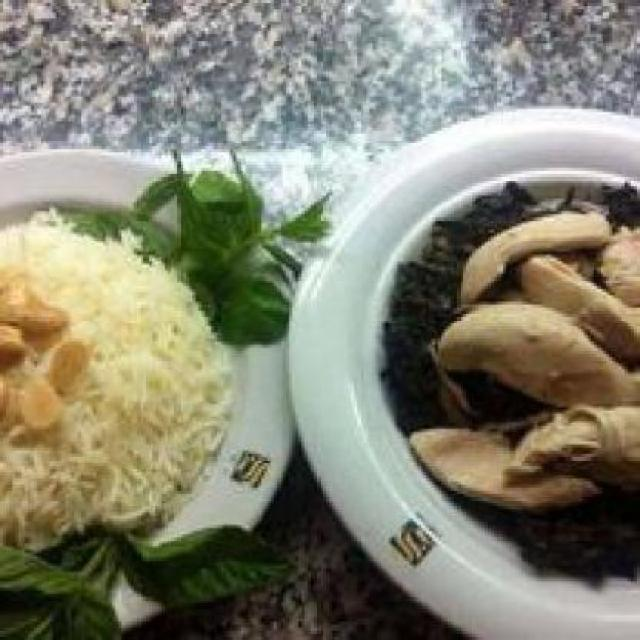molokhia: (375, 159, 637, 590)
